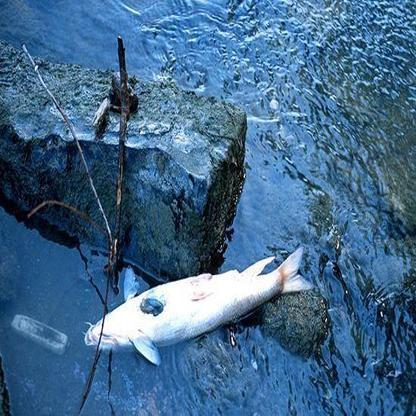deceased fish: (77, 245, 319, 363)
